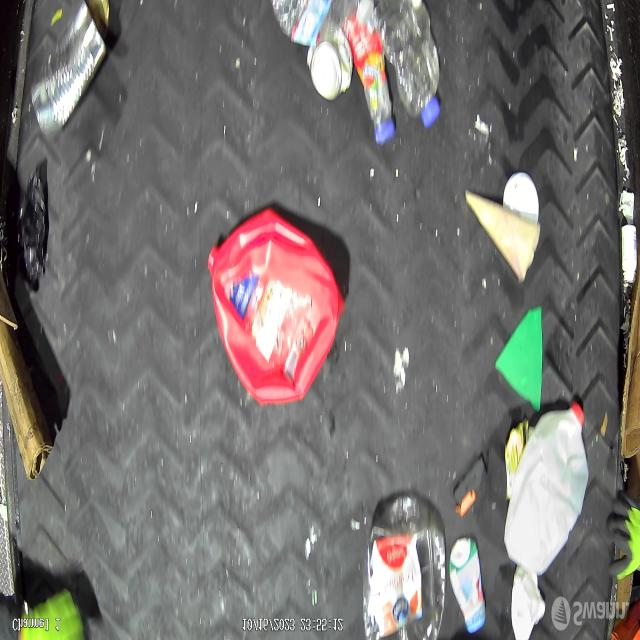can: (30, 1, 109, 134), (307, 28, 352, 101)
milk_jug: (506, 401, 588, 574)
non_white_jug: (206, 210, 346, 404), (364, 491, 444, 640)
plastic_bottle: (372, 0, 442, 128), (350, 2, 396, 146), (270, 1, 344, 49)
